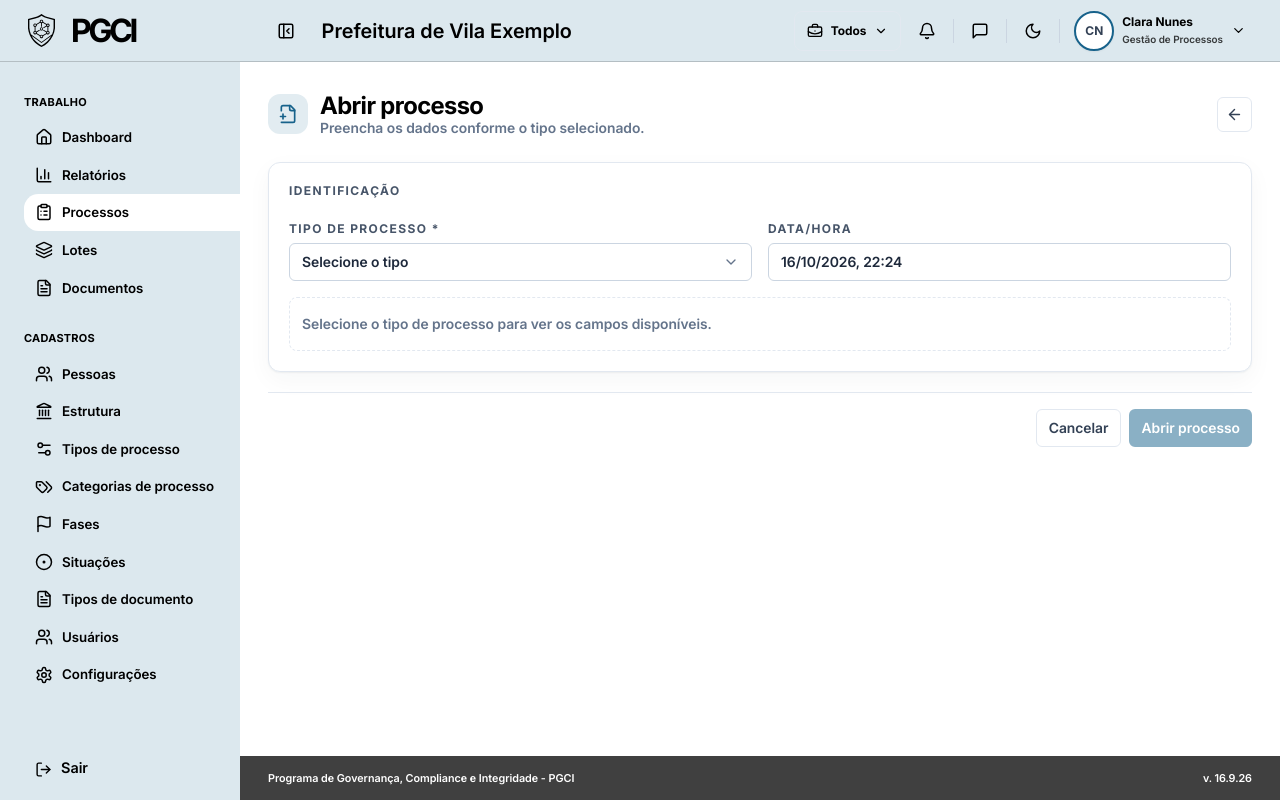
Scenario: jornada principal da interface › mostra os dados do perfil e a estrutura ao trocar o usuário
The image size is (1280, 800).
Expected: the heading "Abrir processo" is shown, x1=320 y1=91 x2=483 y2=120
What coordinates should you click on to do the following:
click the button with aria-label "Abrir menu do perfil"
I would click on:
 (1160, 30)
Its box is x1=1068 y1=6 x2=1252 y2=54.
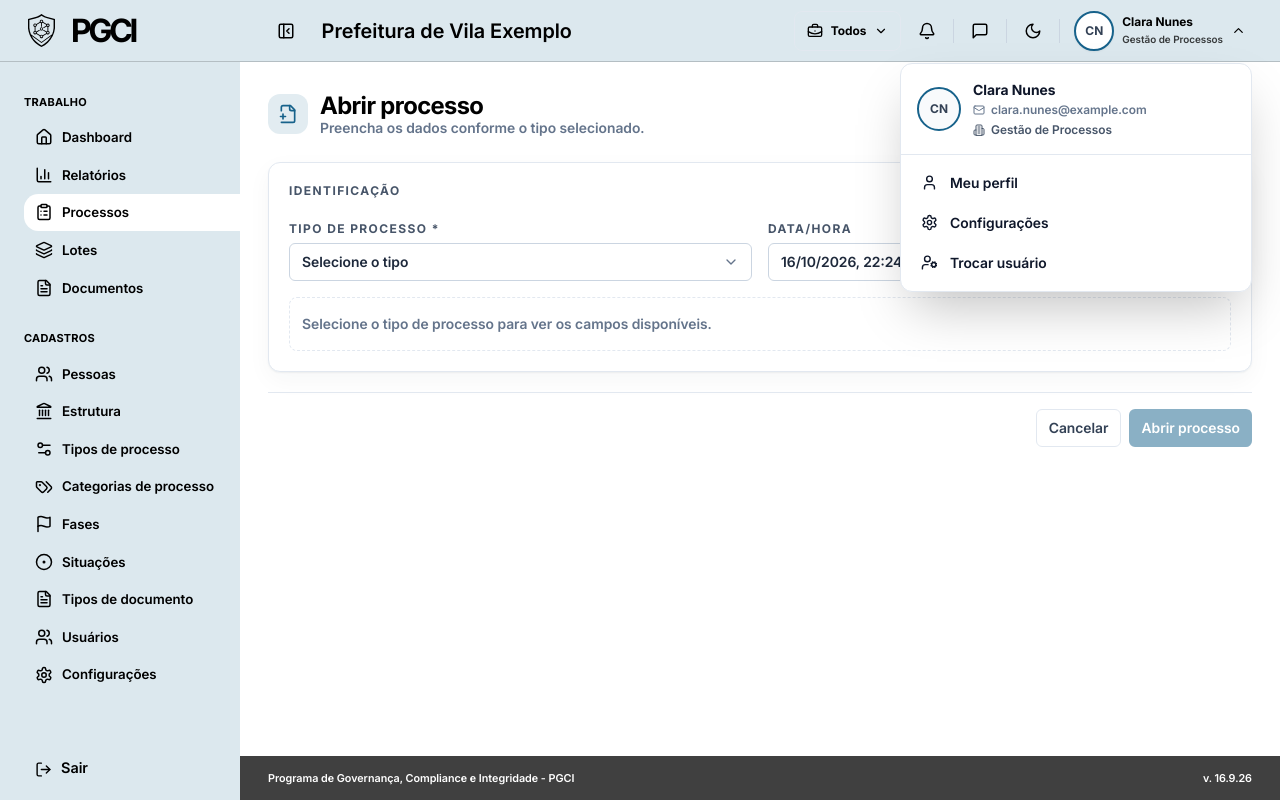
Expected: the text "clara.nunes@example.com" is shown, x1=973 y1=102 x2=1147 y2=118
What coordinates should you click on to do the following:
click the button "Meu perfil"
I would click on:
 (984, 182)
Its box is x1=909 y1=162 x2=1243 y2=202.
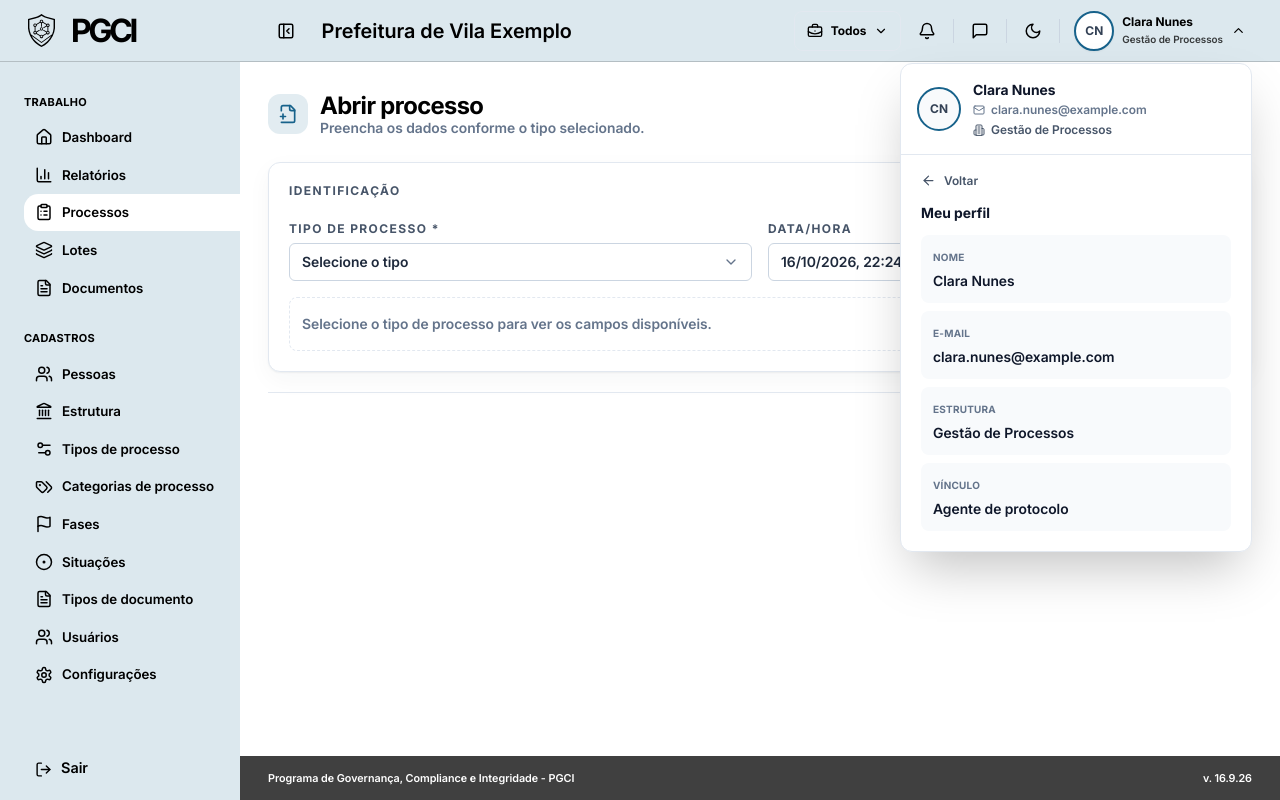
Expected: the text "Agente de protocolo" is shown, x1=933 y1=500 x2=1068 y2=516
What coordinates should you click on to do the following:
click the button "Voltar"
I would click on:
 (950, 180)
Its box is x1=913 y1=166 x2=986 y2=194.
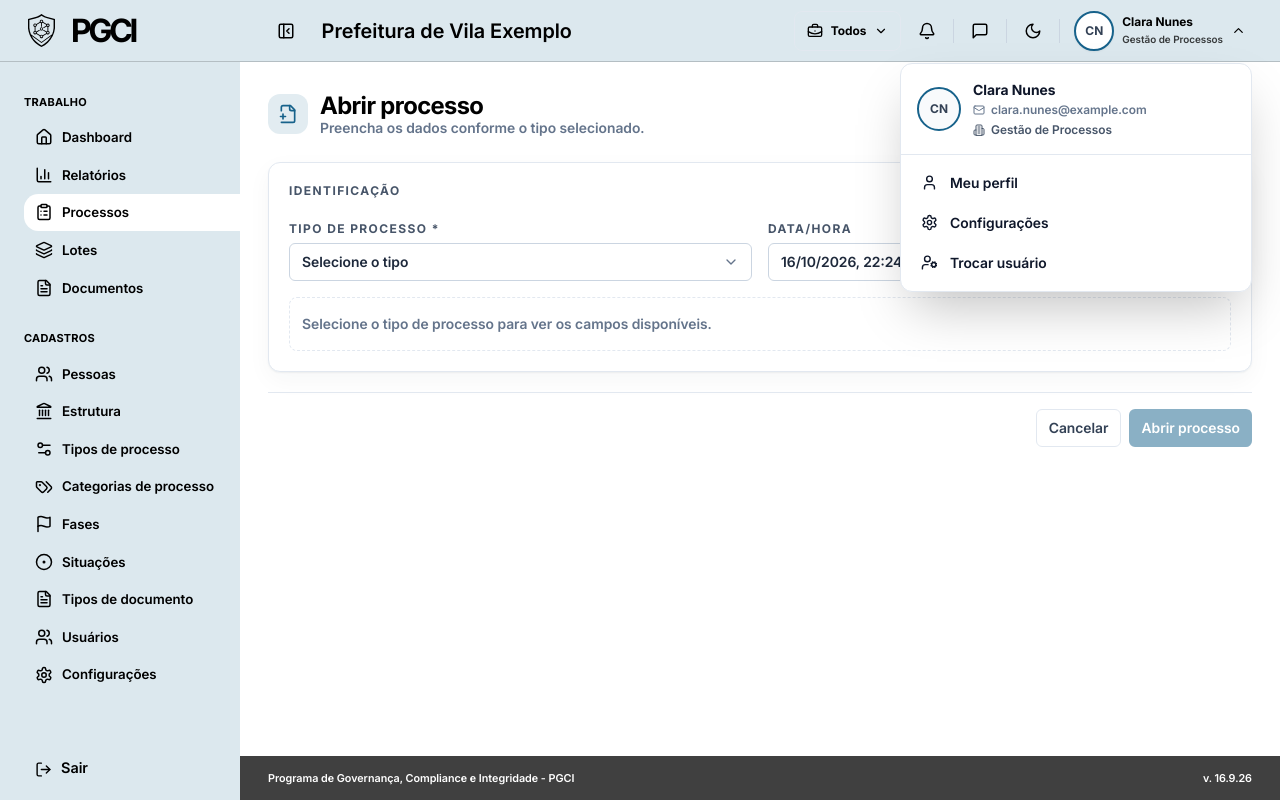
What coordinates should you click on to do the following:
click the button "Trocar usuário"
I would click on:
 (998, 262)
Its box is x1=909 y1=242 x2=1243 y2=282.
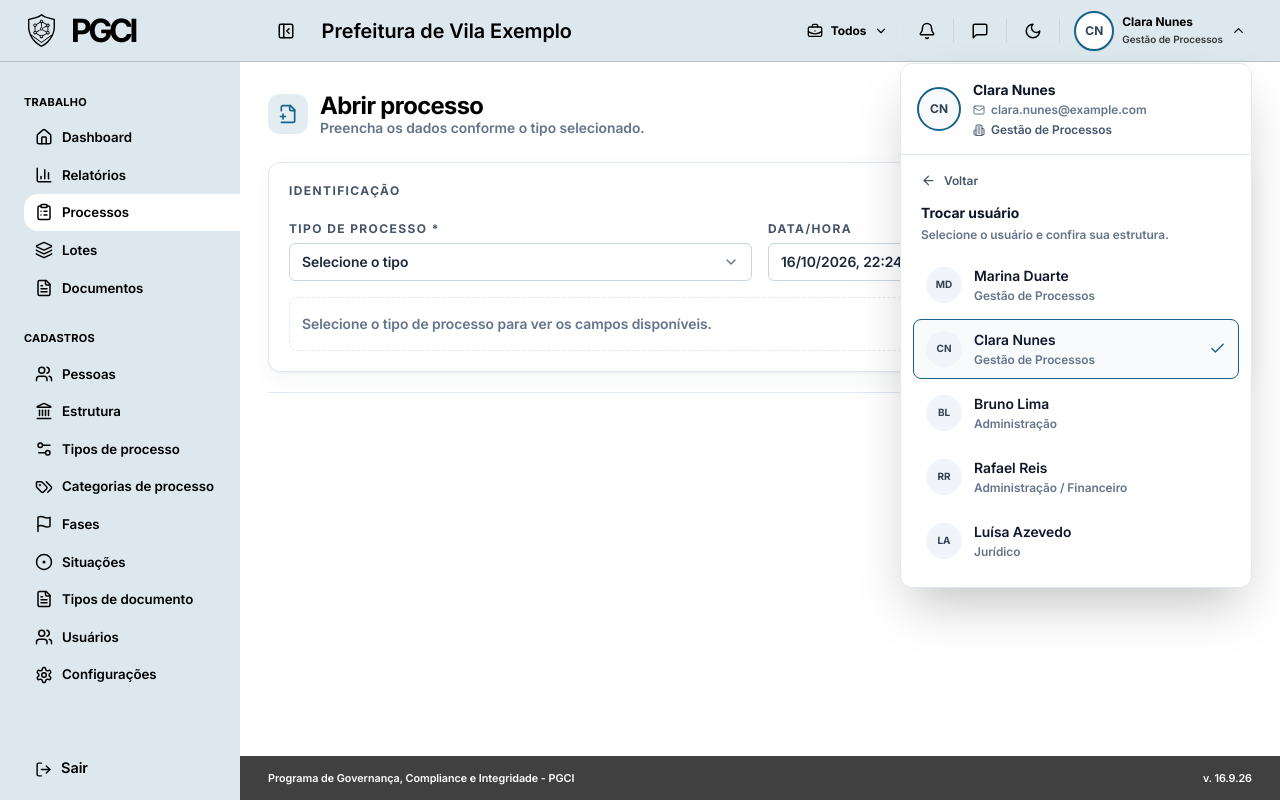
Expected: the button with aria-label "Trocar para Bruno Lima — Administração" is shown
Expected: the button with aria-label "Trocar para Rafael Reis — Administração / Financeiro" is shown, x1=913 y1=446 x2=1239 y2=506
What coordinates should you click on to do the following:
click the button with aria-label "Trocar para Bruno Lima"
I would click on:
 (944, 412)
Its box is x1=913 y1=382 x2=1239 y2=442.
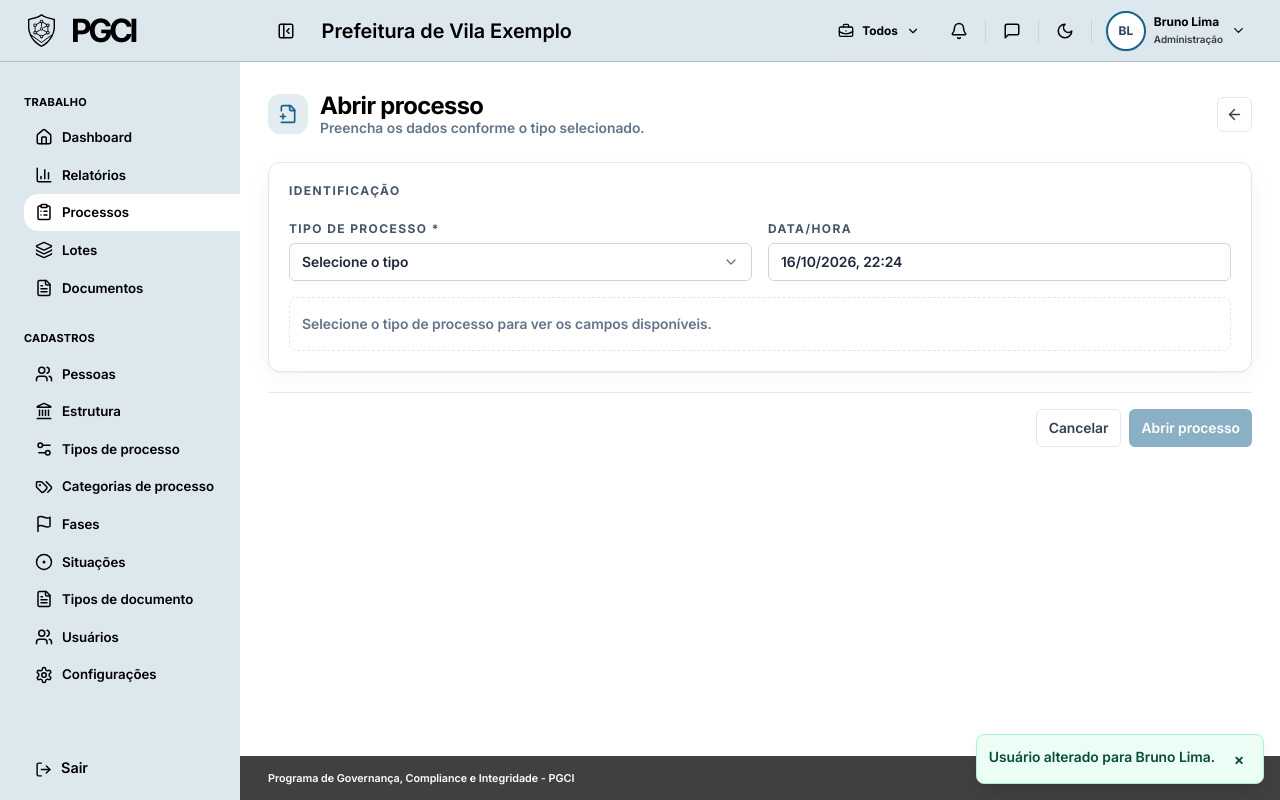
Expected: the button with aria-label "Abrir menu do perfil" shows "Bruno Lima", x1=1100 y1=6 x2=1252 y2=54
Expected: the button with aria-label "Abrir menu do perfil" shows "Administração", x1=1100 y1=6 x2=1252 y2=54
